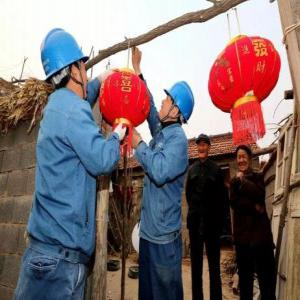blue: (43, 25, 91, 104), (161, 79, 195, 130)
none: (236, 145, 253, 175), (196, 133, 212, 162)
